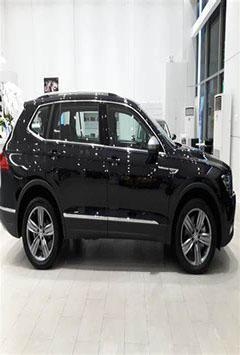car: (0, 62, 238, 300)
